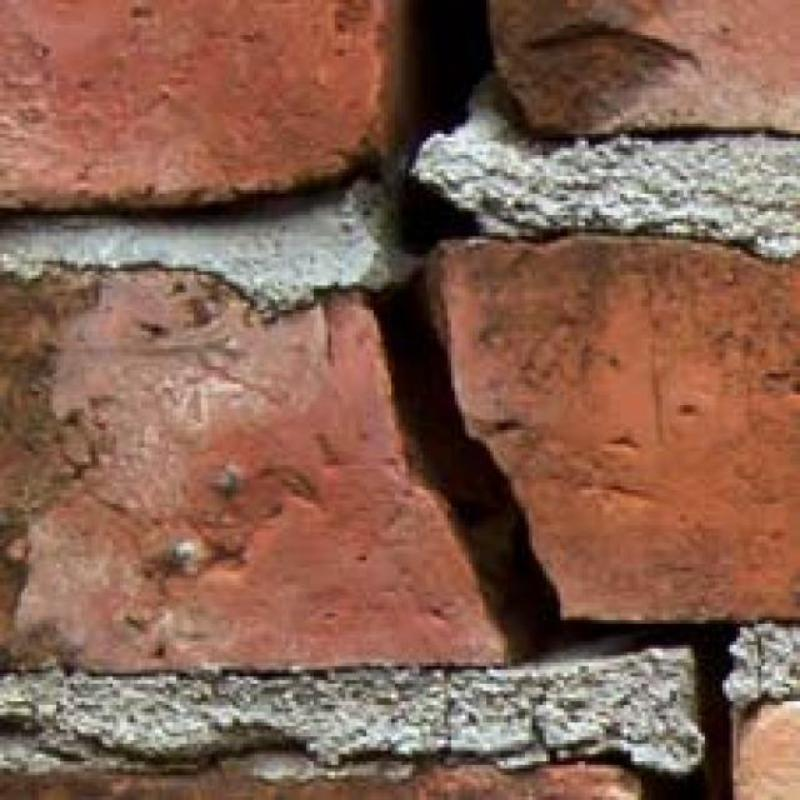crack: (367, 276, 738, 799), (0, 150, 381, 226), (394, 0, 492, 252), (479, 80, 799, 150), (475, 222, 790, 269)
